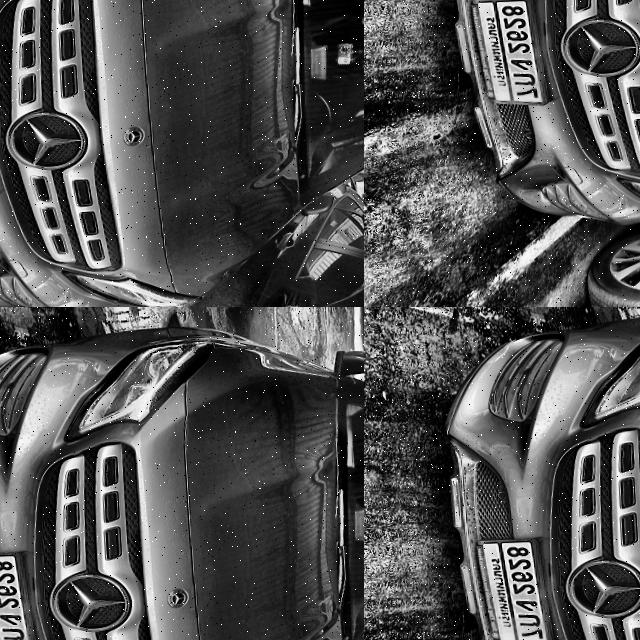license-plate: (471, 536, 558, 640)
